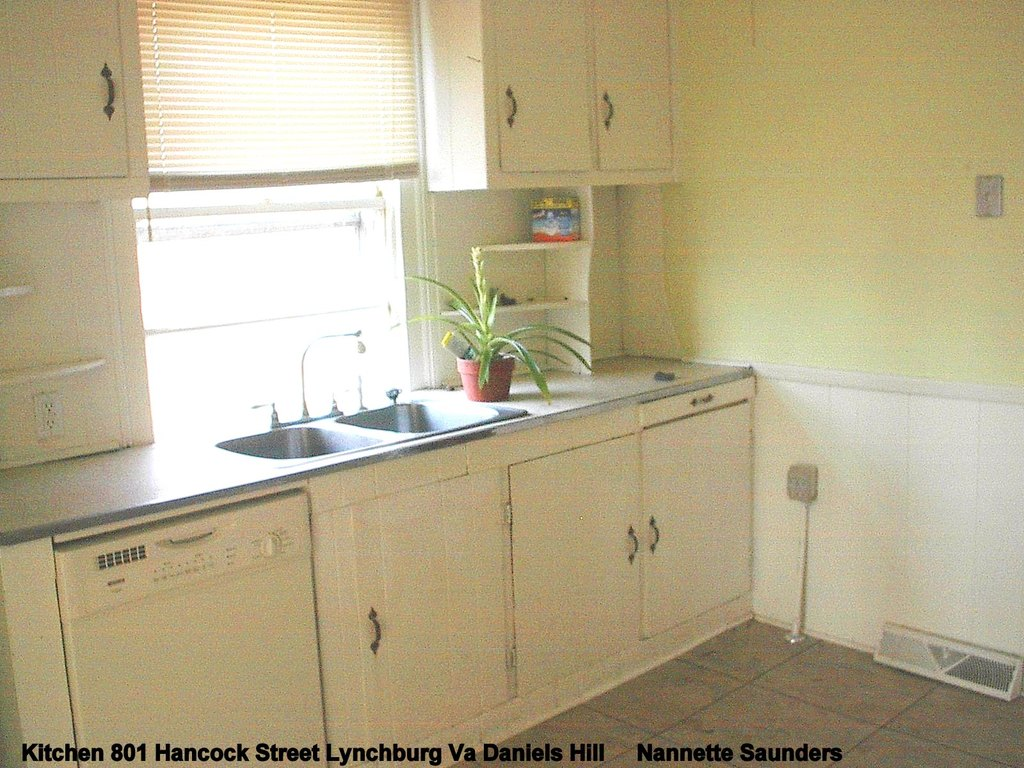cabinet door: (331, 511, 491, 707), (520, 461, 638, 639), (3, 26, 123, 166), (644, 435, 749, 588), (492, 1, 590, 164), (600, 15, 666, 161)
handle: (95, 63, 118, 115), (502, 84, 526, 133), (364, 606, 386, 657), (643, 511, 667, 550), (600, 87, 618, 135), (623, 527, 641, 560)
